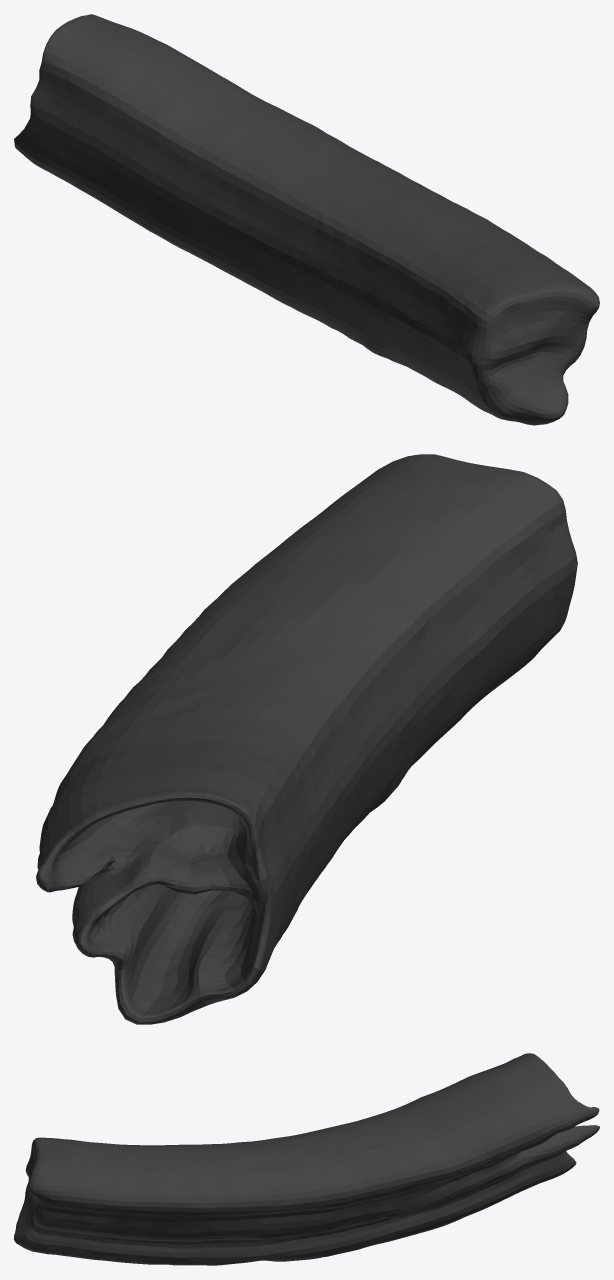
Rendered from tooth_rabbit_307_low.glb.
3 renders of one model, top to bottom at view 1: azimuth 30°, elevation 25°; view 2: azimuth 150°, elevation 25°; view 3: azimuth 270°, elevation 25°, orthographic. The views are drawn at different scales.
Visible parts, largest first — view 1: tooth_rabbit_307_low; view 2: tooth_rabbit_307_low; view 3: tooth_rabbit_307_low.
Boxes of the visible parts, x1,y1,x2,y2 form: tooth_rabbit_307_low: [14, 14, 599, 425]; tooth_rabbit_307_low: [36, 454, 577, 1024]; tooth_rabbit_307_low: [14, 1053, 599, 1265].
Bounding box in the file's own units: 0.6109 × 0.463 × 1.57.
1 material, 1 textured.
